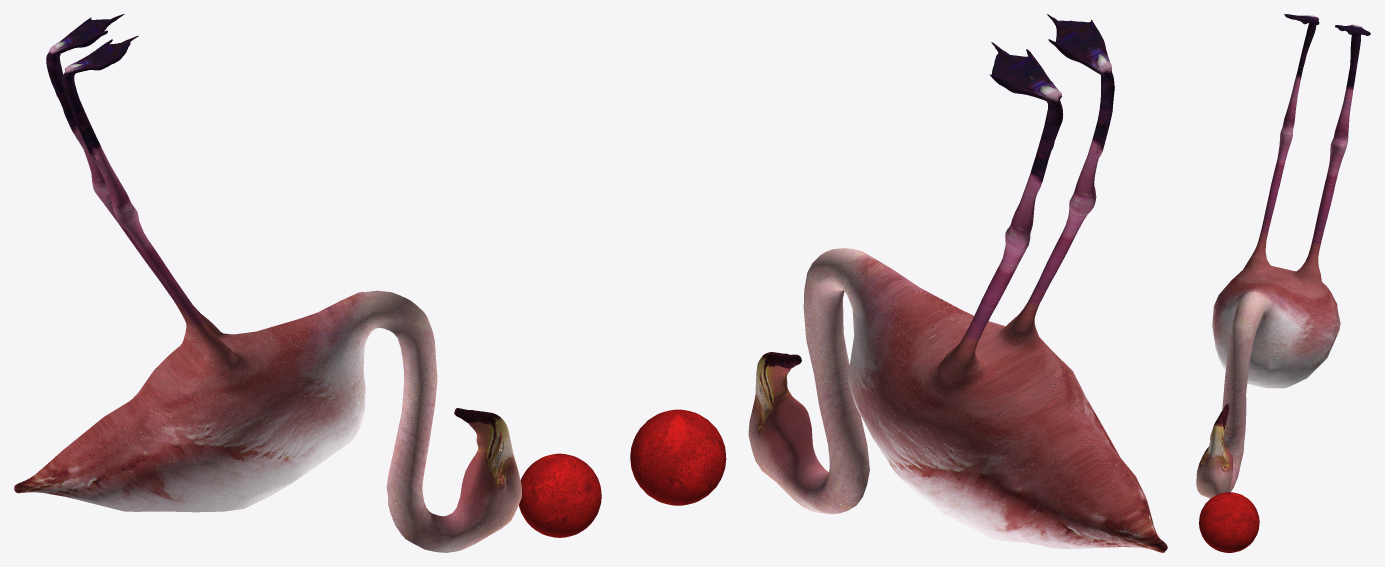
The model's file is flam-game.obj.
3 views of the same model, side by side, from view 1: azimuth 30°, elevation 25°; view 2: azimuth 150°, elevation 25°; view 3: azimuth 270°, elevation 25° (orthographic). The views are drawn at different scales.
Visible parts, largest first — view 1: MESH, Sphere001; view 2: MESH, Sphere001; view 3: MESH, Sphere001.
Boxes of the visible parts, <box> form: MESH: <box>14,14,521,552</box>; Sphere001: <box>519,453,601,537</box>; MESH: <box>748,14,1167,552</box>; Sphere001: <box>630,409,726,505</box>; MESH: <box>1196,14,1370,498</box>; Sphere001: <box>1199,492,1259,552</box>.
Size of the model in its own units: 21.64 by 21.88 by 8.66.
